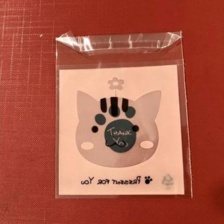snack: (44, 22, 204, 206)
